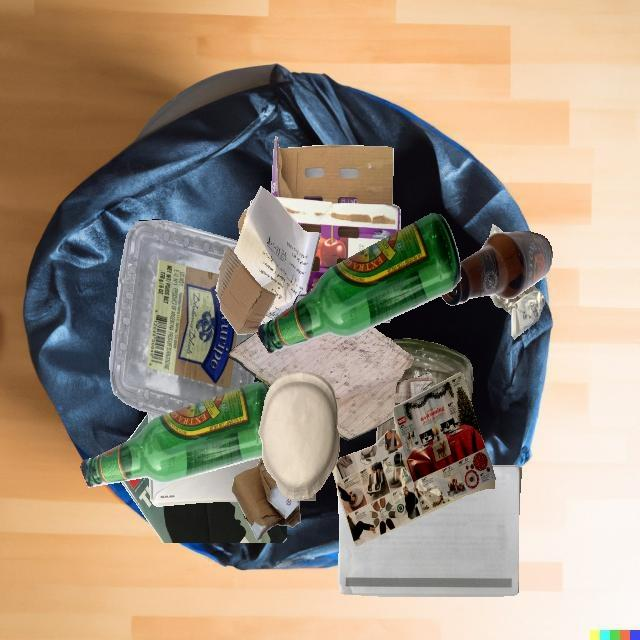cardboard: (271, 136, 393, 204), (231, 457, 301, 540), (216, 247, 276, 334)
glass: (257, 213, 461, 353), (80, 381, 269, 487), (441, 231, 553, 306), (392, 338, 473, 402)
paper: (332, 372, 495, 546), (337, 465, 521, 596), (228, 327, 433, 440), (121, 477, 287, 543), (258, 371, 340, 501), (233, 186, 309, 266), (261, 232, 321, 325), (161, 416, 261, 463), (149, 463, 249, 506), (219, 266, 276, 330), (490, 284, 546, 339), (249, 457, 300, 500)
plastic: (110, 219, 255, 416)
